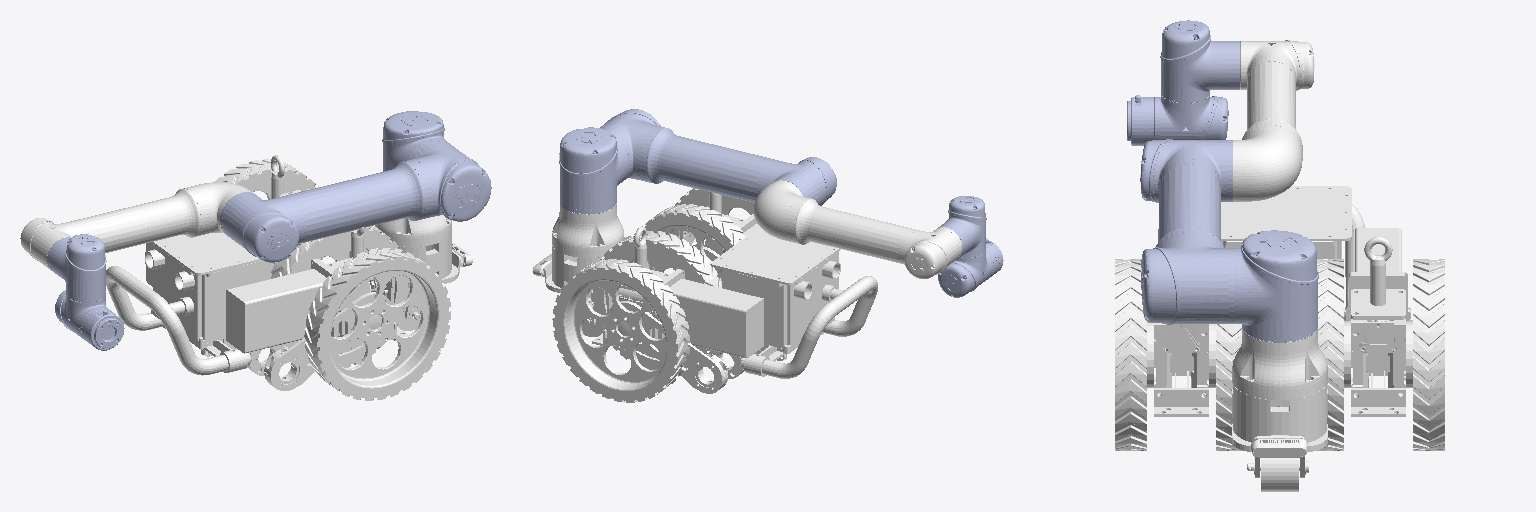
robot.urdf — robot_simulation:
<?xml version="1.0" encoding="utf-8"?>
<!-- This URDF was automatically created by SolidWorks to URDF Exporter! Originally created by [author] ([email redacted]) 
     Commit Version: 1.6.0-4-g7f85cfe  Build Version: 1.6.7995.38578
     For more information, please see http://wiki.ros.org/sw_urdf_exporter -->
<robot
  name="robot_simulation">
  <link name="base_footprint">
  </link>

  <link
    name="base_link">
    <inertial>
      <origin
        xyz="-0.043142014768968 1.11567242370519E-17 0.0221789927693677"
        rpy="0 0 0" />
      <mass
        value="0.0926673491878989" />
      <inertia
        ixx="1.53222325318173E-05"
        ixy="-1.90046743127107E-11"
        ixz="-1.2127406767521E-20"
        iyy="0.000102600033510016"
        iyz="1.0498279805204E-20"
        izz="0.000111817073657985" />
    </inertial>
    <visual>
      <origin
        xyz="0 0 0"
        rpy="0 0 0" />
      <geometry>
        <mesh
          filename="package://robot_simulation/meshes_robot2/base_link.STL" />
      </geometry>
      <material
        name="">
        <color
          rgba="1 1 1 1" />
      </material>
    </visual>
    <collision>
      <origin
        xyz="0 0 0"
        rpy="0 0 0" />
      <geometry>
        <mesh
          filename="package://robot_simulation/meshes_robot2/base_link.STL" />
      </geometry>
    </collision>
  </link>
  <link
    name="Link_r">
    <inertial>
      <origin
        xyz="-0.0544999999999969 -4.71844785465692E-16 1.70002900645727E-15"
        rpy="0 0 0" />
      <mass
        value="2.8831968742214" />
      <inertia
        ixx="0.0478895372962598"
        ixy="-5.04435352663177E-14"
        ixz="-1.01430830053731E-13"
        iyy="0.0245109625270797"
        iyz="-1.20375931444983E-13"
        izz="0.0245109625268975" />
    </inertial>
    <visual>
      <origin
        xyz="0 0 0"
        rpy="0 0 0" />
      <geometry>
        <mesh
          filename="package://robot_simulation/meshes_robot2/Link_r.STL" />
      </geometry>
      <material
        name="">
        <color
          rgba="1 1 1 1" />
      </material>
    </visual>
    <collision>
      <origin
        xyz="0 0 0"
        rpy="0 0 0" />
      <geometry>
        <mesh
          filename="package://robot_simulation/meshes_robot2/Link_r.STL" />
      </geometry>
    </collision>
  </link>
  <joint
    name="joint_right"
    type="continuous">
    <origin
      xyz="0.0165000000000121 -0.0994999999999997 0.107999999999981"
      rpy="2.12103261147281 0 1.5707963267949" />
    <parent
      link="base_link" />
    <child
      link="Link_r" />
    <axis
      xyz="1 0 0" />
  </joint>

  <joint name="base_link2base_footprint" type="fixed">
      <parent link="base_footprint" />
      <child link="base_link"/>
      <origin xyz="0 0 0" rpy="0 0 0" />
  </joint>

  <link
    name="Link_l">
    <inertial>
      <origin
        xyz="-0.0544999999999977 6.80011602582908E-16 1.66533453693773E-15"
        rpy="0 0 0" />
      <mass
        value="2.8831968742214" />
      <inertia
        ixx="0.0478895372962598"
        ixy="-3.35632589915534E-13"
        ixz="2.24678912751338E-13"
        iyy="0.0245109625269403"
        iyz="1.17267306976032E-13"
        izz="0.024510962527037" />
    </inertial>
    <visual>
      <origin
        xyz="0 0 0"
        rpy="0 0 0" />
      <geometry>
        <mesh
          filename="package://robot_simulation/meshes_robot2/Link_l.STL" />
      </geometry>
      <material
        name="">
        <color
          rgba="1 1 1 1" />
      </material>
    </visual>
    <collision>
      <origin
        xyz="0 0 0"
        rpy="0 0 0" />
      <geometry>
        <mesh
          filename="package://robot_simulation/meshes_robot2/Link_l.STL" />
      </geometry>
    </collision>
  </link>
  <joint
    name="joint_left"
    type="continuous">
    <origin
      xyz="0.0165000000000123 0.208500000000001 0.107999999999981"
      rpy="2.80958859831297 0 1.5707963267949" />
    <parent
      link="base_link" />
    <child
      link="Link_l" />
    <axis
      xyz="1 0 0" />
  </joint>
  <link
    name="Link_base">
    <inertial>
      <origin
        xyz="1.41292850918941E-05 0.0602207038515709 -0.000603682453906879"
        rpy="0 0 0" />
      <mass
        value="0.571272620133457" />
      <inertia
        ixx="0.00101086034286069"
        ixy="4.56435228908895E-07"
        ixz="7.51494402259985E-08"
        iyy="0.00140801936985448"
        iyz="-1.32176903251832E-05"
        izz="0.00107590370416142" />
    </inertial>
    <visual>
      <origin
        xyz="0 0 0"
        rpy="0 0 0" />
      <geometry>
        <mesh
          filename="package://robot_simulation/meshes_robot2/Link_base.STL" />
      </geometry>
      <material
        name="">
        <color
          rgba="1 1 1 1" />
      </material>
    </visual>
    <collision>
      <origin
        xyz="0 0 0"
        rpy="0 0 0" />
      <geometry>
        <mesh
          filename="package://robot_simulation/meshes_robot2/Link_base.STL" />
      </geometry>
    </collision>
  </link>
  <joint
    name="j3"
    type="fixed">
    <origin
      xyz="0.230499999999998 0 0.164000000000002"
      rpy="1.5707963267949 0 1.5707963267949" />
    <parent
      link="base_link" />
    <child
      link="Link_base" />
    <axis
      xyz="0 0 0" />
  </joint>
  <link
    name="Link_1">
    <inertial>
      <origin
        xyz="0.00773427340425959 4.50102368609873E-06 -0.000904392326544823"
        rpy="0 0 0" />
      <mass
        value="1.79913629434417" />
      <inertia
        ixx="0.00328732296832481"
        ixy="-1.34887066748055E-07"
        ixz="0.00042035611051707"
        iyy="0.00353693990002428"
        iyz="1.37253652869673E-07"
        izz="0.00355851716430424" />
    </inertial>
    <visual>
      <origin
        xyz="0 0 0"
        rpy="0 0 0" />
      <geometry>
        <mesh
          filename="package://robot_simulation/meshes_robot2/Link_1.STL" />
      </geometry>
      <material
        name="">
        <color
          rgba="0.792156862745098 0.819607843137255 0.933333333333333 1" />
      </material>
    </visual>
    <collision>
      <origin
        xyz="0 0 0"
        rpy="0 0 0" />
      <geometry>
        <mesh
          filename="package://robot_simulation/meshes_robot2/Link_1.STL" />
      </geometry>
    </collision>
  </link>
  <joint
    name="joint_1"
    type="continuous">
    <origin
      xyz="0 0.162499992321044 0"
      rpy="-1.5707963267949 0 3.14159265358979" />
    <parent
      link="Link_base" />
    <child
      link="Link_1" />
    <axis
      xyz="0 0 -1" />
  </joint>
  <link
    name="Link_2">
    <inertial>
      <origin
        xyz="0.18919662210697 7.30049235786456E-07 -0.000838820208127644"
        rpy="0 0 0" />
      <mass
        value="5.27134064943703" />
      <inertia
        ixx="0.00780270591897656"
        ixy="-1.57632796218308E-07"
        ixz="0.000220475874243142"
        iyy="0.0240356175381961"
        iyz="8.96630385902477E-08"
        izz="0.0238605038791539" />
    </inertial>
    <visual>
      <origin
        xyz="0 0 0"
        rpy="0 0 0" />
      <geometry>
        <mesh
          filename="package://robot_simulation/meshes_robot2/Link_2.STL" />
      </geometry>
      <material
        name="">
        <color
          rgba="0.792156862745098 0.819607843137255 0.933333333333333 1" />
      </material>
    </visual>
    <collision>
      <origin
        xyz="0 0 0"
        rpy="0 0 0" />
      <geometry>
        <mesh
          filename="package://robot_simulation/meshes_robot2/Link_2.STL" />
      </geometry>
    </collision>
  </link>
  <joint
    name="joint_2"
    type="continuous">
    <origin
      xyz="0.140999992321044 0 0"
      rpy="-1.5707963267949 0 1.5707963267949" />
    <parent
      link="Link_1" />
    <child
      link="Link_2" />
    <axis
      xyz="0 0 -1" />
  </joint>
  <link
    name="Link_3">
    <inertial>
      <origin
        xyz="-0.0473482277540754 0.182811418653828 -3.25796184874605E-06"
        rpy="0 0 0" />
      <mass
        value="2.73044846910247" />
      <inertia
        ixx="0.0104071954582611"
        ixy="0.000143987338898576"
        ixz="-1.08390211671828E-07"
        iyy="0.00260693182304116"
        iyz="-4.34895775556025E-08"
        izz="0.0105662376264314" />
    </inertial>
    <visual>
      <origin
        xyz="0 0 0"
        rpy="0 0 0" />
      <geometry>
        <mesh
          filename="package://robot_simulation/meshes_robot2/Link_3.STL" />
      </geometry>
      <material
        name="">
        <color
          rgba="1 1 1 1" />
      </material>
    </visual>
    <collision>
      <origin
        xyz="0 0 0"
        rpy="0 0 0" />
      <geometry>
        <mesh
          filename="package://robot_simulation/meshes_robot2/Link_3.STL" />
      </geometry>
    </collision>
  </link>
  <joint
    name="joint_3"
    type="continuous">
    <origin
      xyz="0.427000000000004 0 0.0781999999999787"
      rpy="1.5707963267949 1.5707963267949 0" />
    <parent
      link="Link_2" />
    <child
      link="Link_3" />
    <axis
      xyz="1 0 0" />
  </joint>
  <link
    name="Link_4">
    <inertial>
      <origin
        xyz="0.019046811072364 2.62189913136091E-06 -0.00471201478266664"
        rpy="0 0 0" />
      <mass
        value="0.75307908796907" />
      <inertia
        ixx="0.000594720341853613"
        ixy="2.98869693743997E-09"
        ixz="0.000108276141881951"
        iyy="0.00101945654598876"
        iyz="1.22048328162273E-08"
        izz="0.000986591471542521" />
    </inertial>
    <visual>
      <origin
        xyz="0 0 0"
        rpy="0 0 0" />
      <geometry>
        <mesh
          filename="package://robot_simulation/meshes_robot2/Link_4.STL" />
      </geometry>
      <material
        name="">
        <color
          rgba="0.792156862745098 0.819607843137255 0.933333333333333 1" />
      </material>
    </visual>
    <collision>
      <origin
        xyz="0 0 0"
        rpy="0 0 0" />
      <geometry>
        <mesh
          filename="package://robot_simulation/meshes_robot2/Link_4.STL" />
      </geometry>
    </collision>
  </link>
  <joint
    name="joint_4"
    type="continuous">
    <origin
      xyz="0.0847000000000194 0.390499999999996 0"
      rpy="0 0 3.14159265358979" />
    <parent
      link="Link_3" />
    <child
      link="Link_4" />
    <axis
      xyz="1 0 0" />
  </joint>
  <link
    name="Link_5">
    <inertial>
      <origin
        xyz="0.0049594208984074 3.52152394400562E-06 -0.0061110253489752"
        rpy="0 0 0" />
      <mass
        value="0.580697784745691" />
      <inertia
        ixx="0.000463900738340175"
        ixy="2.81200098302899E-09"
        ixz="5.63283550867626E-05"
        iyy="0.000505896666156617"
        iyz="9.31887820468966E-09"
        izz="0.000479397456495676" />
    </inertial>
    <visual>
      <origin
        xyz="0 0 0"
        rpy="0 0 0" />
      <geometry>
        <mesh
          filename="package://robot_simulation/meshes_robot2/Link_5.STL" />
      </geometry>
      <material
        name="">
        <color
          rgba="0.792156862745098 0.819607843137255 0.933333333333333 1" />
      </material>
    </visual>
    <collision>
      <origin
        xyz="0 0 0"
        rpy="0 0 0" />
      <geometry>
        <mesh
          filename="package://robot_simulation/meshes_robot2/Link_5.STL" />
      </geometry>
    </collision>
  </link>
  <joint
    name="joint_5"
    type="continuous">
    <origin
      xyz="0 0 0.0965"
      rpy="3.14159265358979 1.5707963267949 0" />
    <parent
      link="Link_4" />
    <child
      link="Link_5" />
    <axis
      xyz="1 0 0" />
  </joint>
  <link
    name="Link_6">
    <inertial>
      <origin
        xyz="0.0231067452870509 -0.000150247579864704 -1.76864412004818E-10"
        rpy="0 0 0" />
      <mass
        value="0.178606321444053" />
      <inertia
        ixx="0.00012596796153639"
        ixy="-3.25478531435437E-07"
        ixz="-6.43552565190651E-13"
        iyy="8.80945714480635E-05"
        iyz="8.17331353372859E-13"
        izz="8.65449825290253E-05" />
    </inertial>
    <visual>
      <origin
        xyz="0 0 0"
        rpy="0 0 0" />
      <geometry>
        <mesh
          filename="package://robot_simulation/meshes_robot2/Link_6.STL" />
      </geometry>
      <material
        name="">
        <color
          rgba="0.792156862745098 0.819607843137255 0.933333333333333 1" />
      </material>
    </visual>
    <collision>
      <origin
        xyz="0 0 0"
        rpy="0 0 0" />
      <geometry>
        <mesh
          filename="package://robot_simulation/meshes_robot2/Link_6.STL" />
      </geometry>
    </collision>
  </link>
  <joint
    name="joint_6"
    type="continuous">
    <origin
      xyz="0 0 0.092"
      rpy="1.5707963267949 1.5707963267949 0" />
    <parent
      link="Link_5" />
    <child
      link="Link_6" />
    <axis
      xyz="1 0 0" />
  </joint>
</robot>

--- What the picture shows (computed from the rendered views, not written in the file) ---
3 views of the same robot in one strip: view 1: azimuth 30°, elevation 25°; view 2: azimuth 150°, elevation 25°; view 3: azimuth 270°, elevation 25° (orthographic).
Model robot_simulation with 11 links and 10 joints (8 continuous, 2 fixed), rooted at base_footprint, posed all joints at 0.
Visible links, largest first — view 1: base_link, Link_r, Link_2, Link_3, Link_4, Link_1, Link_l, Link_base, Link_6, Link_5; view 2: base_link, Link_l, Link_2, Link_3, Link_1, Link_r, Link_base, Link_4, Link_5; view 3: base_link, Link_2, Link_l, Link_3, Link_1, Link_r, Link_4, Link_base, Link_5, Link_6.
Boxes of the visible links, x1=… form: base_link: x1=106, y1=155, x2=472, y2=390; Link_r: x1=271, y1=226, x2=450, y2=400; Link_2: x1=220, y1=140, x2=491, y2=262; Link_3: x1=20, y1=182, x2=255, y2=268; Link_4: x1=47, y1=234, x2=106, y2=302; Link_1: x1=382, y1=111, x2=449, y2=171; Link_l: x1=215, y1=159, x2=368, y2=264; Link_base: x1=375, y1=215, x2=451, y2=246; Link_6: x1=82, y1=308, x2=124, y2=350; Link_5: x1=55, y1=290, x2=107, y2=340; base_link: x1=532, y1=192, x2=877, y2=393; Link_l: x1=552, y1=231, x2=721, y2=402; Link_2: x1=600, y1=109, x2=836, y2=205; Link_3: x1=754, y1=180, x2=961, y2=278; Link_1: x1=559, y1=127, x2=629, y2=214; Link_r: x1=632, y1=188, x2=754, y2=276; Link_base: x1=552, y1=204, x2=624, y2=257; Link_4: x1=933, y1=196, x2=986, y2=257; Link_5: x1=938, y1=250, x2=994, y2=297; base_link: x1=1147, y1=186, x2=1412, y2=491; Link_2: x1=1140, y1=139, x2=1234, y2=324; Link_l: x1=1317, y1=259, x2=1444, y2=450; Link_3: x1=1233, y1=40, x2=1314, y2=201; Link_1: x1=1235, y1=230, x2=1318, y2=342; Link_r: x1=1115, y1=259, x2=1242, y2=450; Link_4: x1=1160, y1=20, x2=1239, y2=103; Link_base: x1=1232, y1=328, x2=1327, y2=399; Link_5: x1=1154, y1=94, x2=1228, y2=139; Link_6: x1=1127, y1=95, x2=1153, y2=145.
Size in the robot's own frame: 0.9674 by 0.517 by 0.4457 metres.
10 mesh visuals loaded from 10 distinct referenced files (10 binary STL).
